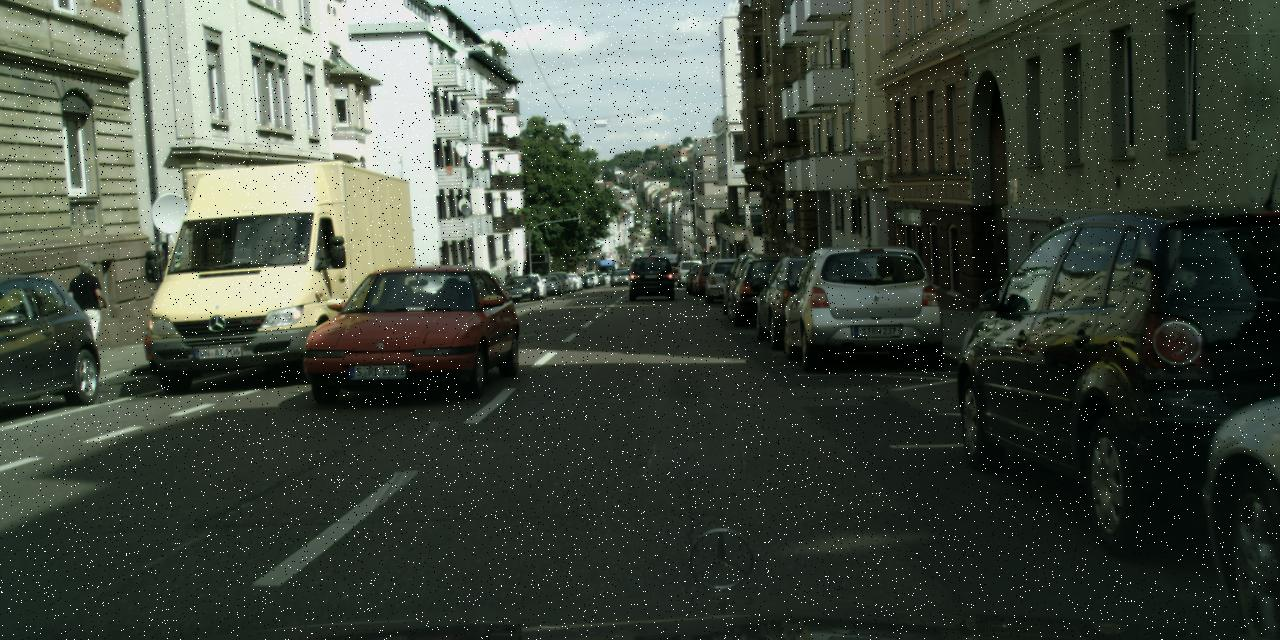ped: (1034, 215, 1082, 333), (66, 260, 105, 358)
